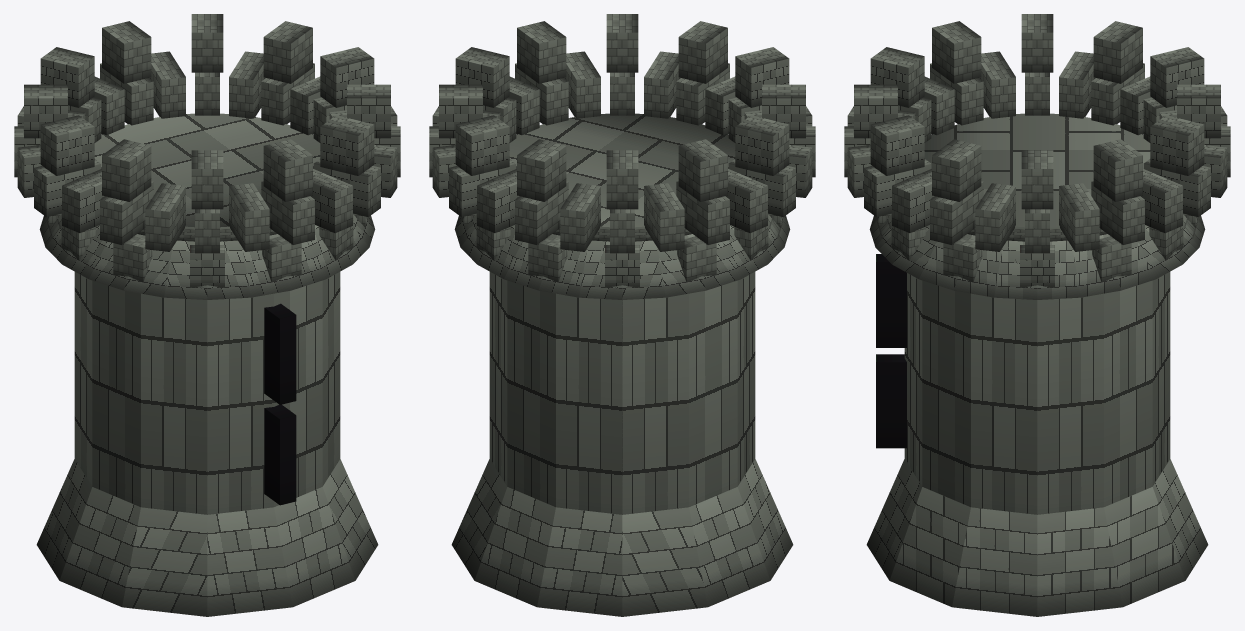
File: tower_round.gltf
The picture shows the model from 3 angles, left to right: view 1: azimuth 30°, elevation 25°; view 2: azimuth 150°, elevation 25°; view 3: azimuth 270°, elevation 25°; orthographic projection.
Parts seen in each view (by area): view 1: tower_round; view 2: tower_round; view 3: tower_round.
Boxes of the visible parts, left/top/right/bottom form: tower_round: left=14, top=14, right=400, bottom=616; tower_round: left=429, top=14, right=815, bottom=616; tower_round: left=844, top=14, right=1230, bottom=616.
Size of the model in its own units: 1.22 by 1.58 by 1.22.
Materials: 1 (1 with a texture image).
